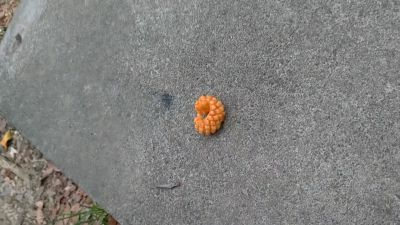eggs: (193, 93, 227, 136)
